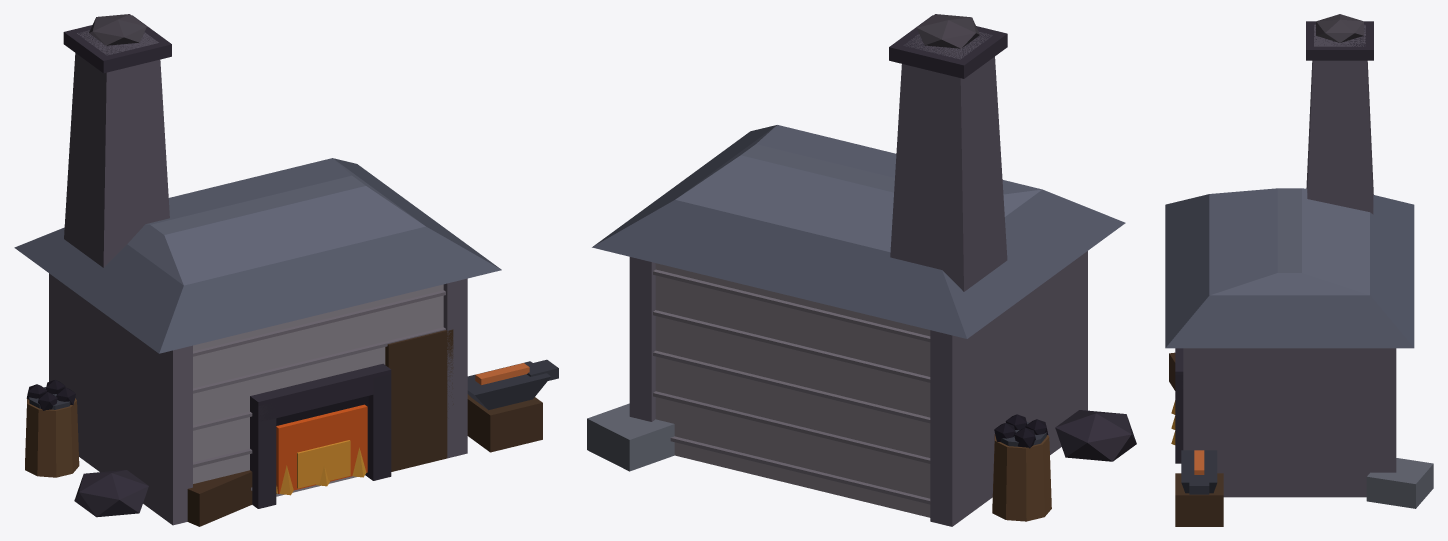
Rendered from Decor_DragonLair_Forge.fbx.
3 views of the same model, side by side, from view 1: azimuth 30°, elevation 25°; view 2: azimuth 150°, elevation 25°; view 3: azimuth 270°, elevation 25° (orthographic). The views are drawn at different scales.
Parts seen in each view (by area): view 1: Forge_Body; view 2: Forge_Body; view 3: Forge_Body.
Part boxes in pixels (x1,y1,x2,y2): Forge_Body: (14, 14, 558, 526); Forge_Body: (587, 14, 1136, 526); Forge_Body: (1165, 14, 1433, 526).
Bounding box in the file's own units: 22.2 × 20 × 13.17.
